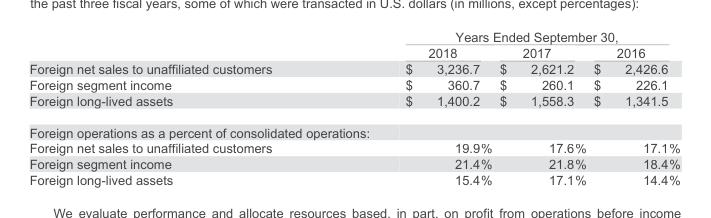table: (28, 29, 679, 186)
table column: (28, 29, 338, 186), (338, 29, 495, 186), (495, 29, 589, 186), (589, 29, 679, 186)
table column header: (28, 29, 679, 60)
table projected row header: (28, 116, 679, 140)
table row: (28, 92, 679, 116), (28, 116, 679, 140), (28, 44, 679, 60), (28, 60, 679, 76), (28, 76, 679, 92), (28, 155, 679, 171), (28, 29, 679, 44), (28, 140, 679, 155), (28, 171, 679, 186)
table spanning cell: (338, 29, 679, 44)
